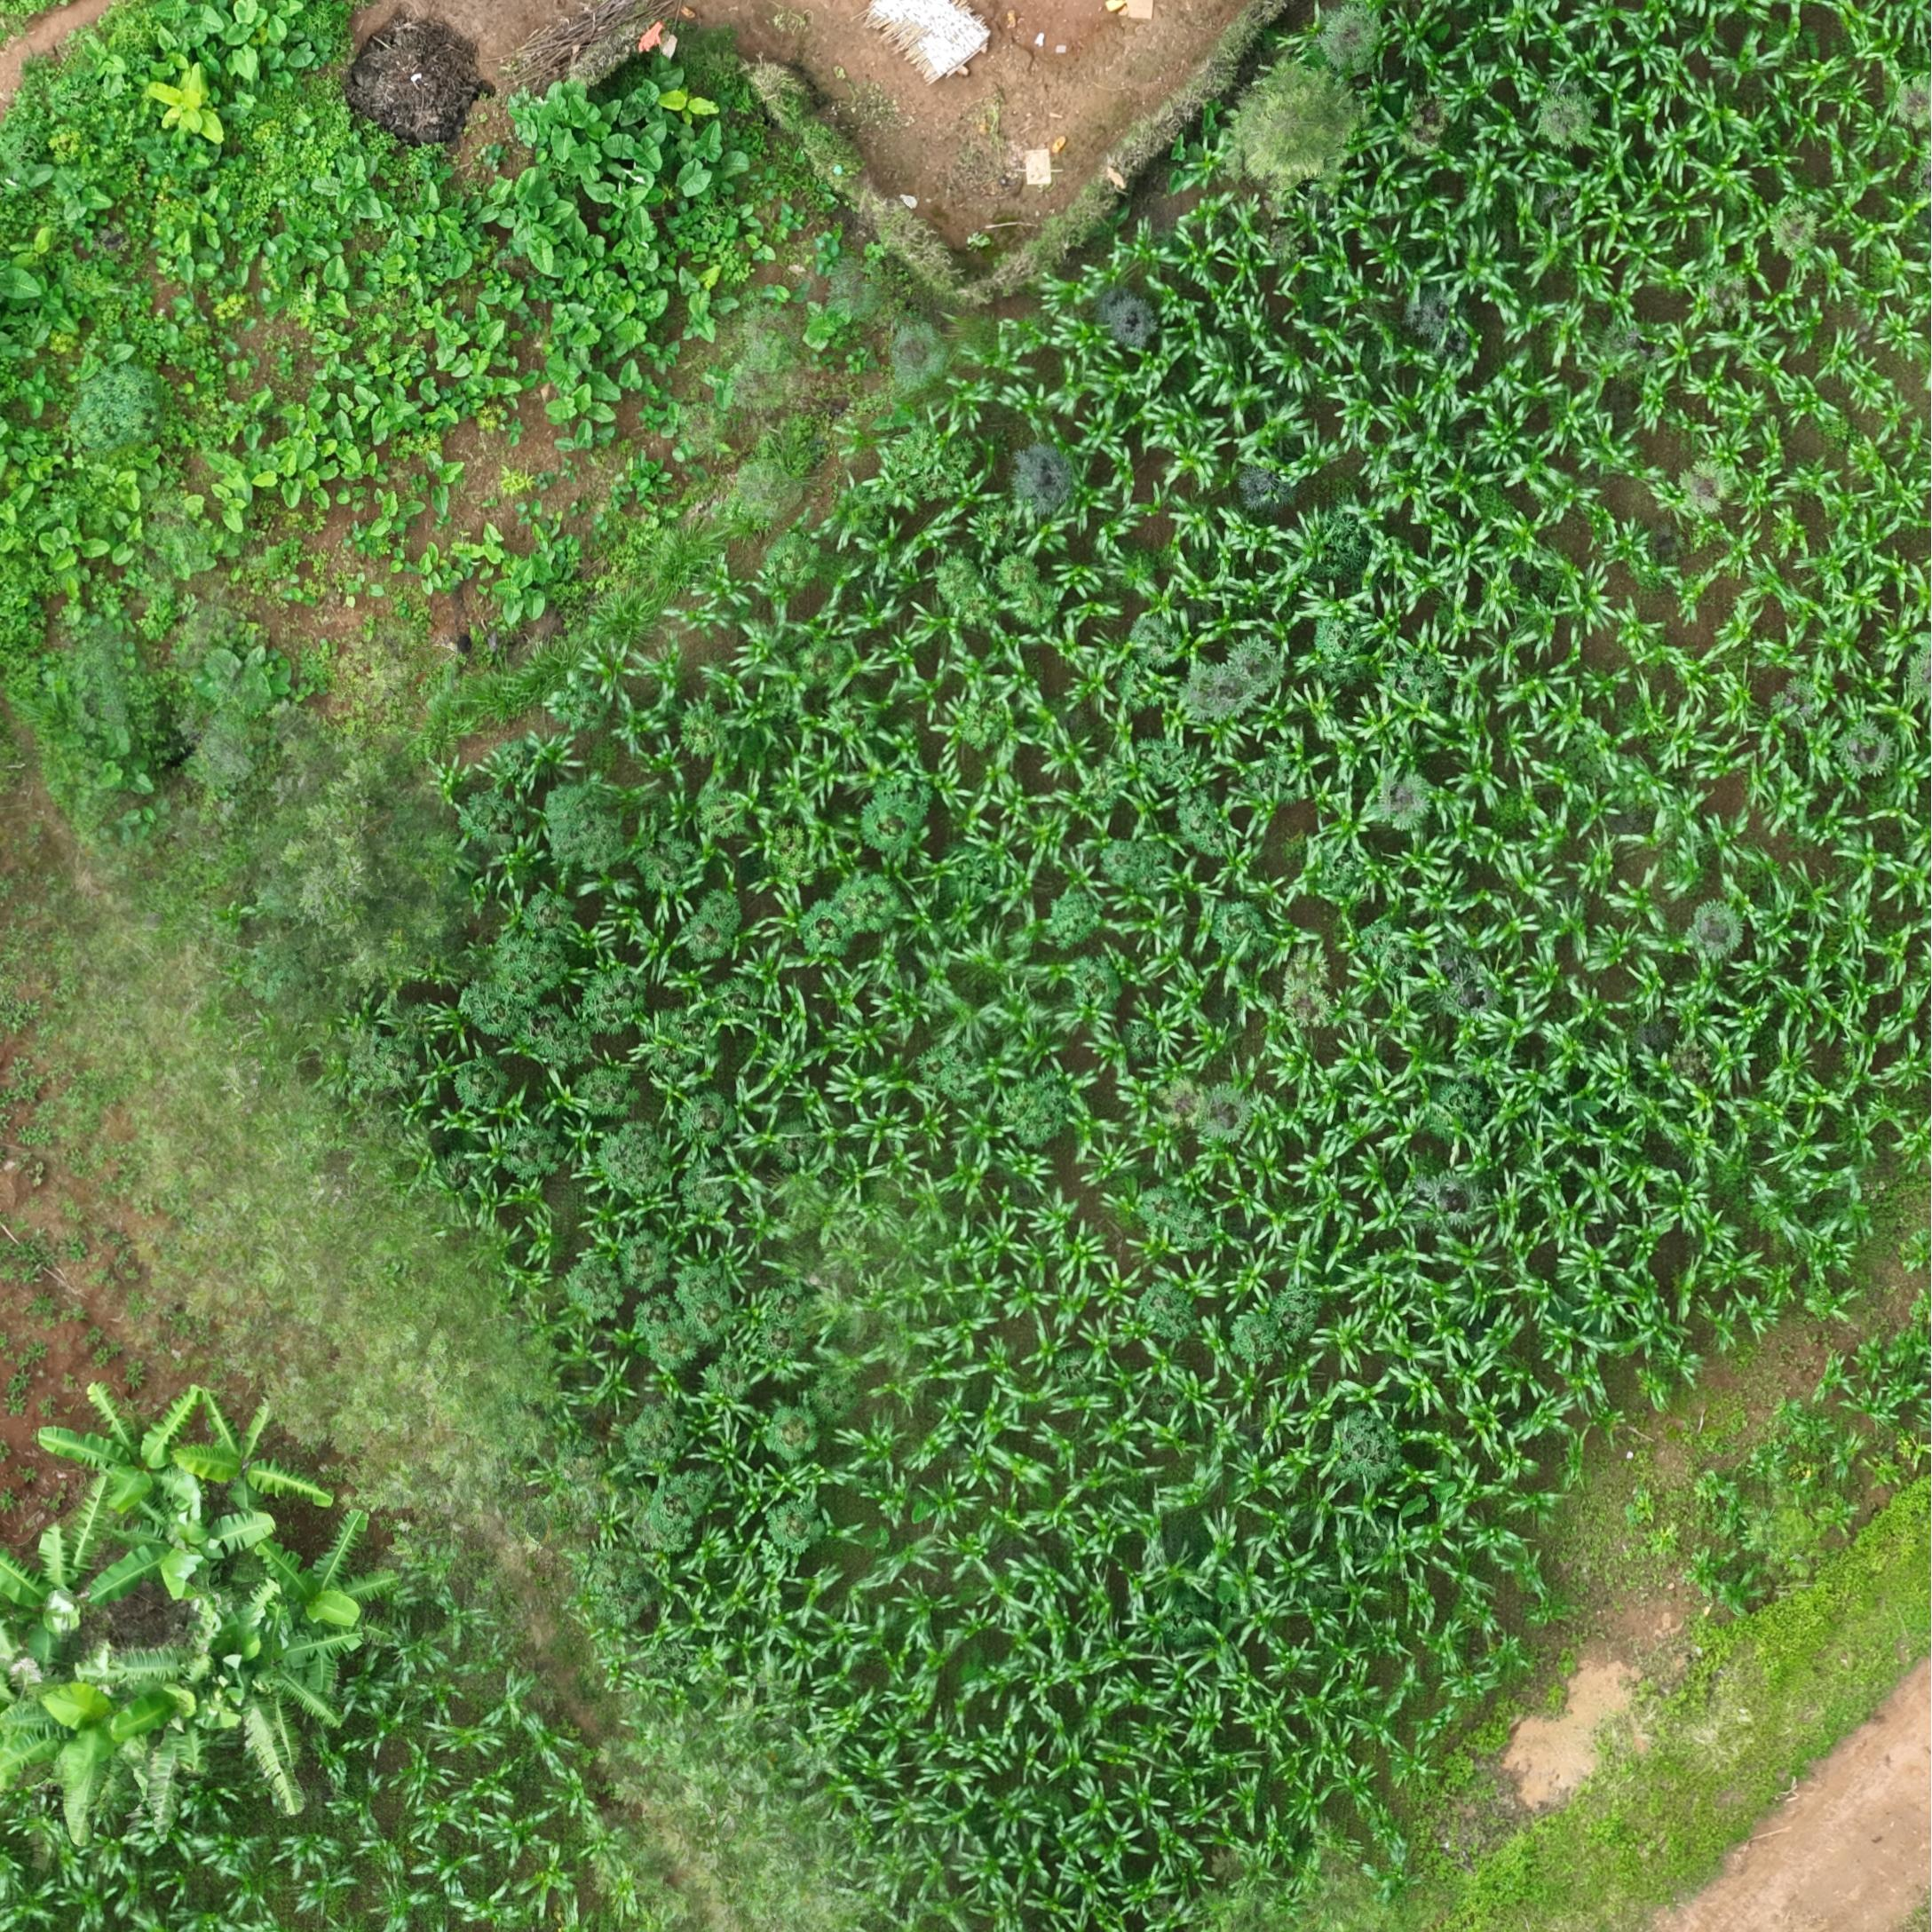Banana: (186, 1663, 357, 1884), (2, 1730, 184, 1913), (189, 1422, 357, 1575), (2, 1582, 179, 1723), (81, 1545, 288, 1661), (35, 1433, 207, 1569), (257, 1568, 418, 1693), (142, 69, 237, 152), (678, 87, 752, 122)
